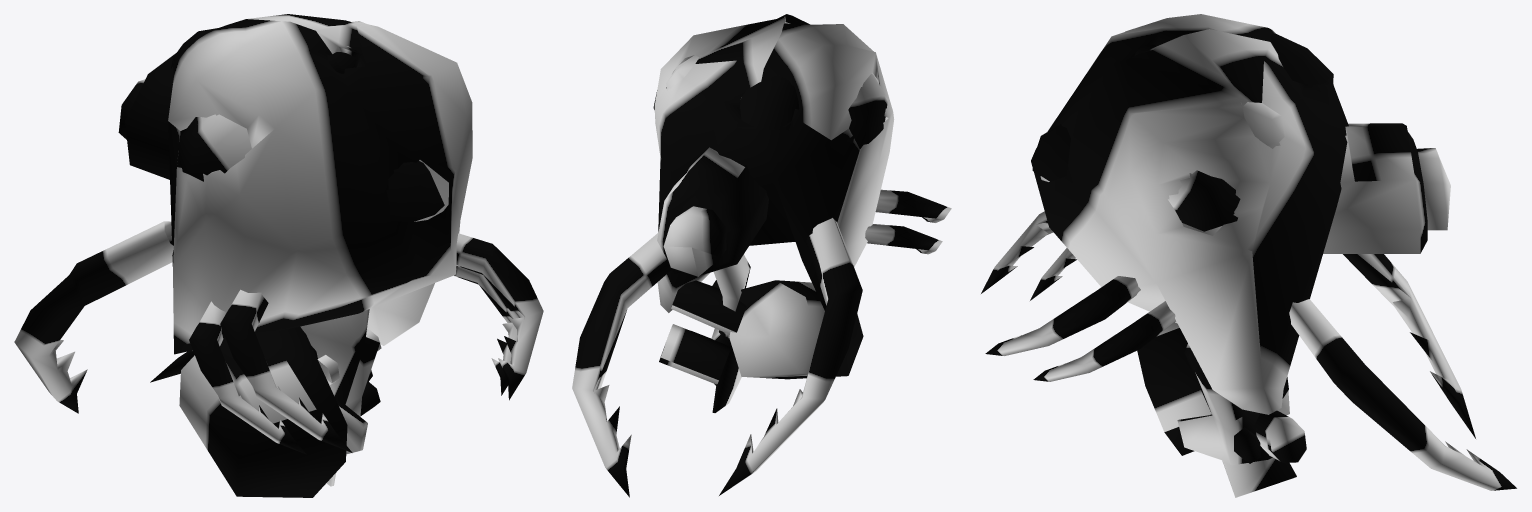
The model's file is plague_minion.obj.
The picture shows the model from 3 angles, left to right: view 1: azimuth 30°, elevation 25°; view 2: azimuth 150°, elevation 25°; view 3: azimuth 270°, elevation 25°; orthographic projection. The views are drawn at different scales.
Visible parts, largest first — view 1: minion_anim; view 2: minion_anim; view 3: minion_anim.
Boxes of the visible parts, x1=… form: minion_anim: x1=14, y1=14, x2=543, y2=497; minion_anim: x1=572, y1=14, x2=951, y2=497; minion_anim: x1=981, y1=14, x2=1516, y2=497.
Bounding box in the file's own units: 34.48 × 46.48 × 50.64.
Materials: 1 (1 with a texture image).
